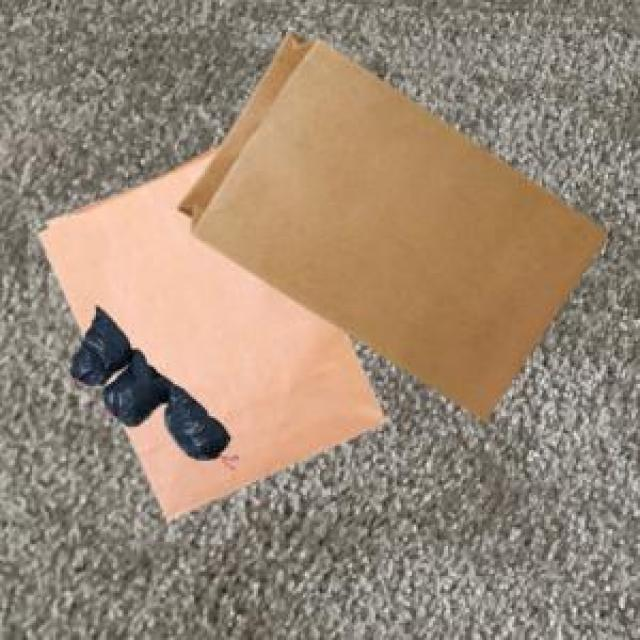miscellaneous trash: (68, 303, 226, 454)
paper: (173, 28, 602, 416), (34, 143, 382, 514)
